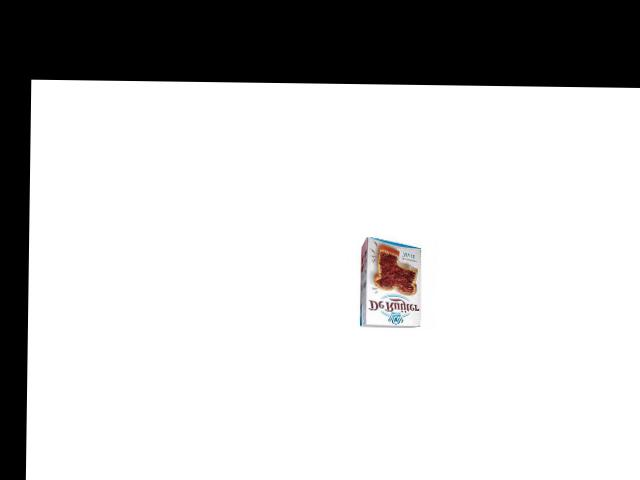chocolate: (351, 239, 430, 333)
